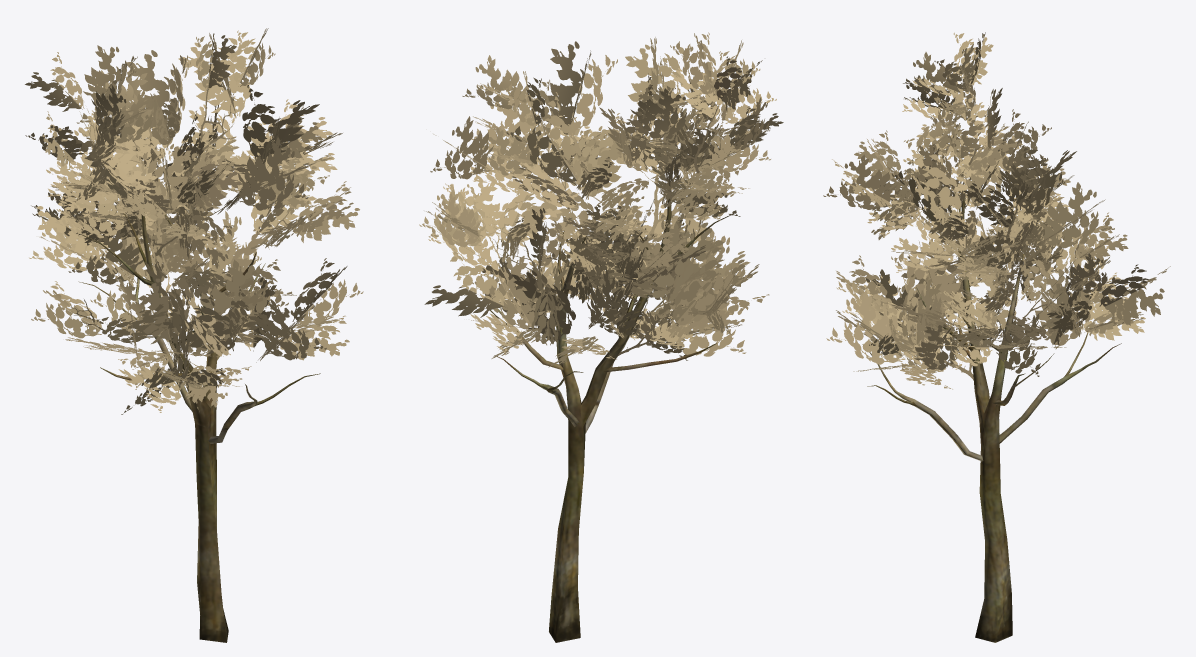
Rendered from L_tree_1.fbx.
3 views of the same model, side by side, from view 1: azimuth 30°, elevation 25°; view 2: azimuth 150°, elevation 25°; view 3: azimuth 270°, elevation 25° (orthographic). The views are drawn at different scales.
Parts seen in each view (by area): view 1: tree_1_1, tree_1; view 2: tree_1_1, tree_1; view 3: tree_1_1, tree_1.
Part boxes in pixels (left/top/right/bottom): tree_1_1: left=25, top=28, right=363, bottom=414; tree_1: left=78, top=202, right=320, bottom=642; tree_1_1: left=419, top=32, right=783, bottom=367; tree_1: left=481, top=190, right=733, bottom=642; tree_1_1: left=823, top=32, right=1170, bottom=389; tree_1: left=862, top=197, right=1121, bottom=642.
Bounding box in the file's own units: 249 × 446 × 267.
